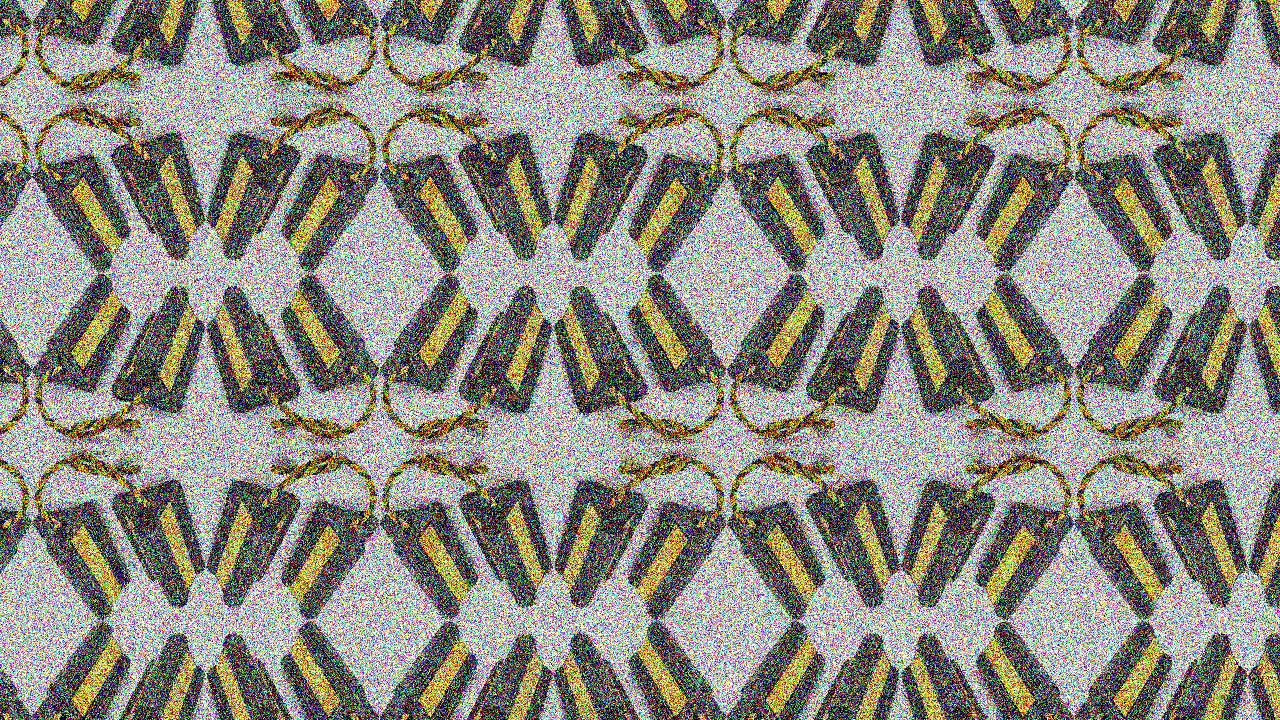chock: (110, 131, 204, 261), (206, 131, 300, 261), (458, 131, 552, 261), (554, 131, 648, 261), (806, 131, 900, 261), (902, 131, 996, 261), (1154, 131, 1248, 261), (110, 285, 204, 415), (206, 285, 300, 415), (458, 285, 552, 415), (554, 285, 648, 415), (806, 285, 900, 415), (902, 285, 996, 415), (1154, 285, 1248, 415), (110, 479, 204, 609), (206, 479, 300, 609), (458, 479, 552, 609), (554, 479, 648, 609), (806, 479, 900, 609), (902, 479, 996, 609), (1154, 479, 1248, 609), (31, 154, 131, 273), (279, 154, 379, 273), (379, 154, 479, 273), (627, 154, 727, 273), (727, 154, 827, 273), (975, 154, 1075, 273), (1075, 154, 1175, 273), (31, 273, 131, 392), (279, 273, 379, 392), (379, 273, 479, 392), (627, 273, 727, 392), (727, 273, 827, 392), (975, 273, 1075, 392), (1075, 273, 1175, 392), (31, 502, 131, 621), (279, 502, 379, 621), (379, 502, 479, 621), (627, 502, 727, 621), (727, 502, 827, 621), (975, 502, 1075, 621), (1075, 502, 1175, 621), (31, 621, 131, 720), (279, 621, 379, 720), (379, 621, 479, 720), (627, 621, 727, 720), (727, 621, 827, 720), (975, 621, 1075, 720), (1075, 621, 1175, 720), (110, 633, 204, 720), (206, 633, 300, 720), (458, 633, 552, 720), (554, 633, 648, 720), (806, 633, 900, 720), (902, 633, 996, 720), (1154, 633, 1248, 720), (110, 0, 204, 67), (206, 0, 300, 67), (458, 0, 552, 67), (554, 0, 648, 67), (806, 0, 900, 67), (902, 0, 996, 67), (1154, 0, 1248, 67), (31, 0, 131, 44), (279, 0, 379, 44), (379, 0, 479, 44), (627, 0, 727, 44), (727, 0, 827, 44), (975, 0, 1075, 44), (1075, 0, 1175, 44), (1250, 131, 1280, 261), (1250, 285, 1280, 415), (1250, 479, 1280, 609), (0, 154, 31, 273), (0, 273, 31, 392), (0, 502, 31, 621), (0, 621, 31, 720), (1250, 633, 1280, 720), (1250, 0, 1280, 67), (0, 0, 31, 44)
